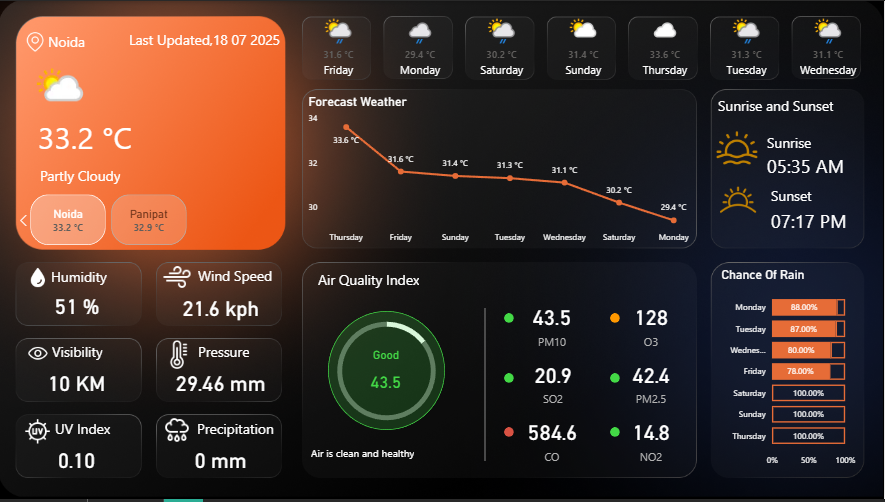

What the dashboard file says about the page in this screenshot:
{"tool":"powerbi","page":{"name":"Page 1","canvas":[1280,720],"ordinal":0},"visuals":[{"type":"donutChart","fields":{"Y":["Sum(Current.current.air_quality.pm10)","_Measures.Left_Value_PM10"]},"box":[462.5,440.3,195.2,188],"z":0},{"type":"shape","box":[475.5,447.6,169.2,172],"z":1000},{"type":"advancedSlicerVisual","fields":{"Values":["Location.location.name"]},"box":[19.8,275.2,393.7,83.6],"z":2000},{"type":"cardVisual","fields":{"Data":["Min(Current.current.condition.icon)"]},"box":[31.9,69.9,145.9,117.1],"z":3000},{"type":"shape","box":[56.4,163.4,164.8,63.6],"z":4000},{"type":"shape","box":[59.3,235.7,198.1,30.4],"z":5000},{"type":"shape","box":[70.8,41.9,107,30.4],"z":6000},{"type":"shape","box":[170.9,39.6,235.7,30.1],"z":7000},{"type":"image","box":[33.3,39,37.6,39],"z":8000},{"type":"shape","box":[75.2,381.7,107,30.4],"z":9000},{"type":"shape","box":[287.7,380.2,128.7,30.4],"z":10000},{"type":"shape","box":[76.6,490.1,107,30.4],"z":11000},{"type":"shape","box":[287.7,490.1,107,30.4],"z":12000},{"type":"shape","box":[286.3,601.4,128.7,30.4],"z":13000},{"type":"shape","box":[81,601.4,107,30.4],"z":14000},{"type":"image","box":[31.8,597.1,47.7,49.2],"z":15000},{"type":"image","box":[36.1,378.8,40.5,41.9],"z":16000},{"type":"image","box":[34.7,485.8,43.4,47.7],"z":17000},{"type":"image","box":[231.3,594.2,52,52],"z":18000},{"type":"image","box":[231.3,485.8,56.4,50.6],"z":19000},{"type":"image","box":[231.3,373,52,52],"z":20000},{"type":"card","fields":{"Values":["_Measures.Humidity"]},"box":[36.1,409.2,151.8,60.7],"z":21000},{"type":"card","fields":{"Values":["_Measures.Wind_Speed"]},"box":[243.7,411.4,151.9,61.7],"z":22000},{"type":"card","fields":{"Values":["_Measures.Pressure"]},"box":[243.7,520.5,151.9,60.1],"z":23000},{"type":"card","fields":{"Values":["_Measures.Visiblity"]},"box":[36.4,520.5,151.9,60.1],"z":24000},{"type":"card","fields":{"Values":["Sum(Current.current.uv)"]},"box":[36.4,631.3,151.9,60.1],"z":25000},{"type":"card","fields":{"Values":["_Measures.Precipition"]},"box":[243.7,631.3,151.9,60.1],"z":26000},{"type":"advancedSlicerVisual","fields":{"Values":["Forecast_Day.Day_Name"]},"box":[430.2,13.7,830,114],"z":27000},{"type":"lineChart","title":"Forecast Weather","fields":{"Y":["Avg(Forecast_Day.forecast.forecastday.day.avgtemp_c)"],"Category":["Forecast_Day.Day_Name"]},"box":[442.4,134.5,569.6,225.5],"z":28000},{"type":"shape","box":[1039.8,133.8,194.6,30.4],"z":29000},{"type":"shape","box":[1109.7,205.2,164.2,63.8],"z":30000},{"type":"shape","box":[1115.8,284.3,164.2,63.8],"z":31000},{"type":"image","box":[1026.5,247.2,83.9,79.5],"z":32000},{"type":"image","box":[1029.4,177.8,75.2,69.4],"z":33000},{"type":"shape","box":[1109.7,188.5,127.7,30.4],"z":34000},{"type":"shape","box":[1115.8,264.5,127.7,30.4],"z":35000},{"type":"hundredPercentStackedBarChart","title":"Chance Of Rain","fields":{"Y":["Sum(Forecast_Day.forecast.forecastday.day.daily_chance_of_rain)","_Measures.Left_Value_Rain"],"Category":["Forecast_Day.Day_Name"]},"box":[1039.5,384.6,203.9,297.8],"z":36000},{"type":"shape","box":[461.2,386,195.2,30.4],"z":37000},{"type":"card","fields":{"Values":["Sum(Current.current.air_quality.o3)"]},"box":[865.6,428,153.3,78.1],"z":38000},{"type":"card","fields":{"Values":["Sum(Current.current.air_quality.pm2_5)"]},"box":[865.6,506,153.3,88.2],"z":39000},{"type":"card","fields":{"Values":["Sum(Current.current.air_quality.no2)"]},"box":[865.6,594.2,153.3,78.1],"z":40000},{"type":"card","fields":{"Values":["Sum(Current.current.air_quality.so2)"]},"box":[723.8,506,153.3,88.2],"z":41000},{"type":"card","fields":{"Values":["Sum(Current.current.air_quality.pm10)"]},"box":[722.3,428,153.3,78.1],"z":42000},{"type":"card","fields":{"Values":["Sum(Current.current.air_quality.co)"]},"box":[722.3,594.2,153.3,78.1],"z":43000},{"type":"shape","box":[729.6,451.1,14.5,14.5],"z":44000},{"type":"shape","box":[882.9,615.9,14.5,14.5],"z":45000},{"type":"shape","box":[882.9,537.8,14.5,14.5],"z":46000},{"type":"shape","box":[882.9,451.1,14.5,14.5],"z":47000},{"type":"shape","box":[729.6,615.9,14.5,14.5],"z":48000},{"type":"shape","box":[729.6,537.8,14.5,14.5],"z":49000},{"type":"shape","box":[689.6,443.9,26,221.2],"z":50000},{"type":"card","fields":{"Values":["Sum(Current.current.air_quality.pm10)"]},"box":[500.1,501.1,118.6,78.1],"z":51000},{"type":"shape","box":[451.1,634.7,253,37.6],"z":52000}]}

Visuals, with their boxes in screenshot pixels (x1, y1, x2, y2), scaled from the page's 1280x720 canvas onto the 885x502 screenshot:
donutChart - Sum(Current.current.air_quality.pm10) x _Measures.Left_Value_PM10: l=320, t=307, r=455, b=438
shape: l=329, t=312, r=446, b=432
advancedSlicerVisual - Location.location.name: l=14, t=192, r=286, b=250
cardVisual - Min(Current.current.condition.icon): l=22, t=49, r=123, b=130
shape: l=39, t=114, r=153, b=158
shape: l=41, t=164, r=178, b=186
shape: l=49, t=29, r=123, b=50
shape: l=118, t=28, r=281, b=49
image: l=23, t=27, r=49, b=54
shape: l=52, t=266, r=126, b=287
shape: l=199, t=265, r=288, b=286
shape: l=53, t=342, r=127, b=363
shape: l=199, t=342, r=273, b=363
shape: l=198, t=419, r=287, b=441
shape: l=56, t=419, r=130, b=441
image: l=22, t=416, r=55, b=451
image: l=25, t=264, r=53, b=293
image: l=24, t=339, r=54, b=372
image: l=160, t=414, r=196, b=451
image: l=160, t=339, r=199, b=374
image: l=160, t=260, r=196, b=296
card - _Measures.Humidity: l=25, t=285, r=130, b=328
card - _Measures.Wind_Speed: l=168, t=287, r=274, b=330
card - _Measures.Pressure: l=168, t=363, r=274, b=405
card - _Measures.Visiblity: l=25, t=363, r=130, b=405
card - Sum(Current.current.uv): l=25, t=440, r=130, b=482
card - _Measures.Precipition: l=168, t=440, r=274, b=482
advancedSlicerVisual - Forecast_Day.Day_Name: l=297, t=10, r=871, b=89
"Forecast Weather" lineChart: l=306, t=94, r=700, b=251
shape: l=719, t=93, r=853, b=114
shape: l=767, t=143, r=881, b=188
shape: l=771, t=198, r=884, b=243
image: l=710, t=172, r=768, b=228
image: l=712, t=124, r=764, b=172
shape: l=767, t=131, r=856, b=153
shape: l=771, t=184, r=860, b=206
"Chance Of Rain" hundredPercentStackedBarChart: l=719, t=268, r=860, b=476
shape: l=319, t=269, r=454, b=290
card - Sum(Current.current.air_quality.o3): l=598, t=298, r=704, b=353
card - Sum(Current.current.air_quality.pm2_5): l=598, t=353, r=704, b=414
card - Sum(Current.current.air_quality.no2): l=598, t=414, r=704, b=469
card - Sum(Current.current.air_quality.so2): l=500, t=353, r=606, b=414
card - Sum(Current.current.air_quality.pm10): l=499, t=298, r=605, b=353
card - Sum(Current.current.air_quality.co): l=499, t=414, r=605, b=469
shape: l=504, t=315, r=514, b=325
shape: l=610, t=429, r=620, b=440
shape: l=610, t=375, r=620, b=385
shape: l=610, t=315, r=620, b=325
shape: l=504, t=429, r=514, b=440
shape: l=504, t=375, r=514, b=385
shape: l=477, t=309, r=495, b=464
card - Sum(Current.current.air_quality.pm10): l=346, t=349, r=428, b=404
shape: l=312, t=443, r=487, b=469
